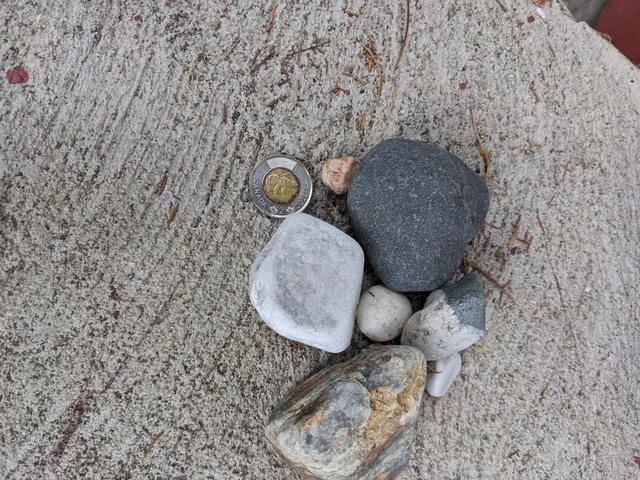twonie: (243, 154, 316, 217)
